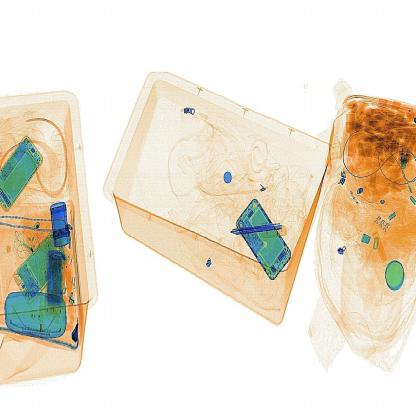pliers: (228, 209, 292, 241)
